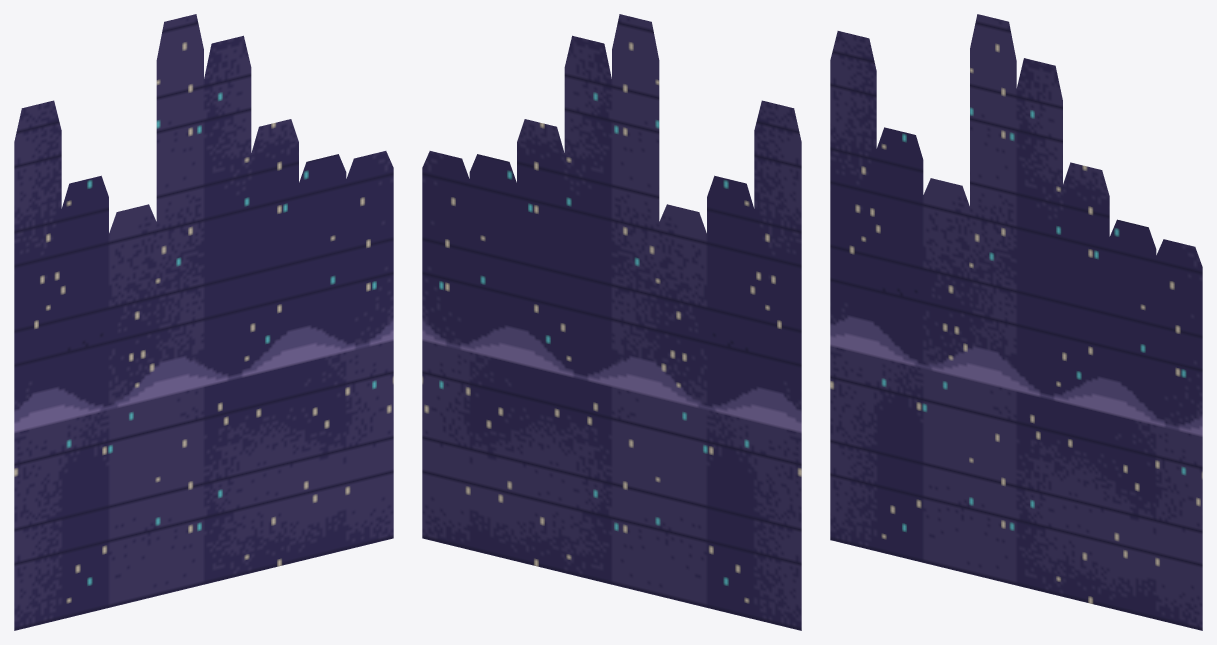
File: cysky.far__tile.glb
3 renders of one model, left to right at view 1: azimuth 30°, elevation 25°; view 2: azimuth 150°, elevation 25°; view 3: azimuth 330°, elevation 25°, orthographic.
Parts seen in each view (by area): view 1: kit_card_skyline; view 2: kit_card_skyline; view 3: kit_card_skyline.
Boxes of the visible parts, bbox=[...] form: kit_card_skyline: bbox=[14, 14, 393, 630]; kit_card_skyline: bbox=[422, 14, 801, 630]; kit_card_skyline: bbox=[830, 14, 1202, 630].
Size of the model in its own units: 24 by 34.6 by 0.
Materials: 1 (1 with a texture image).
